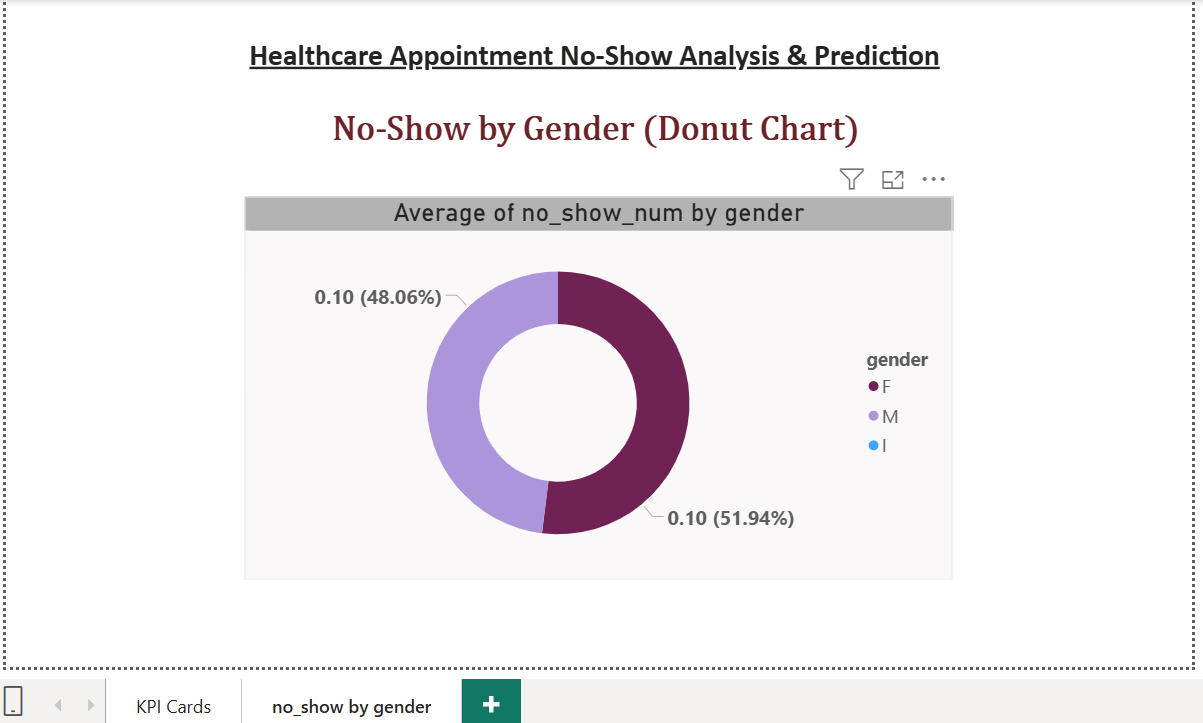

What the dashboard file says about the page in this screenshot:
{"tool":"powerbi","page":{"name":"no_show by gender","canvas":[1280,720],"ordinal":1},"visuals":[{"type":"textbox","box":[257.5,34,764.3,48.6],"z":0},{"type":"textbox","box":[341.7,113.3,594.3,66.4],"z":1000},{"type":"donutChart","fields":{"Category":["healthcare_dataset_cleaned.gender"],"Y":["Avg(healthcare_dataset_cleaned.no_show_num)"]},"box":[256.8,211.8,765.3,413.5],"z":2000}]}

Visuals, with their boxes on the page's 1280x720 design canvas (x1, y1, x2, y2). These are canvas units, not pixel positions in the 1203x723 screenshot, which may show the page scaled, cropped or inside an application window:
textbox: select_region(258, 34, 1022, 83)
textbox: select_region(342, 113, 936, 180)
donutChart - healthcare_dataset_cleaned.gender x Avg(healthcare_dataset_cleaned.no_show_num): select_region(257, 212, 1022, 625)
